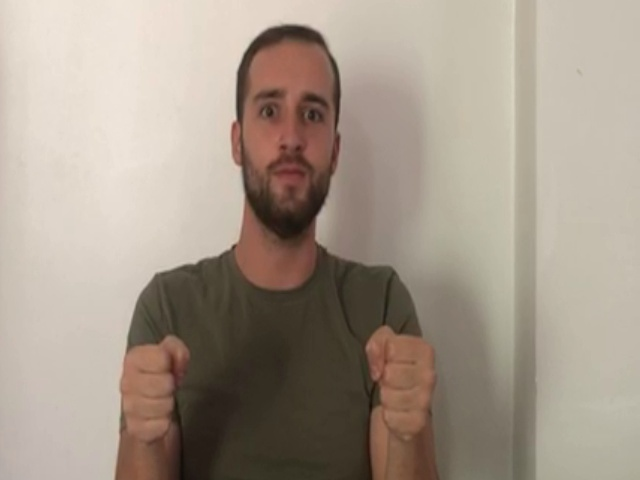Sili: (116, 321, 443, 446)
